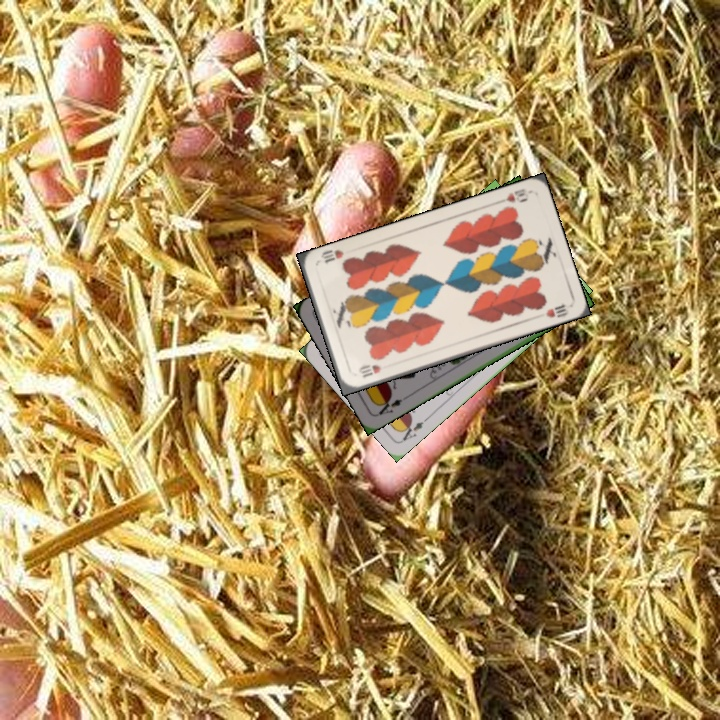EA: (396, 413, 431, 444), (373, 393, 405, 417)
H10: (502, 184, 531, 205), (355, 361, 384, 380)
